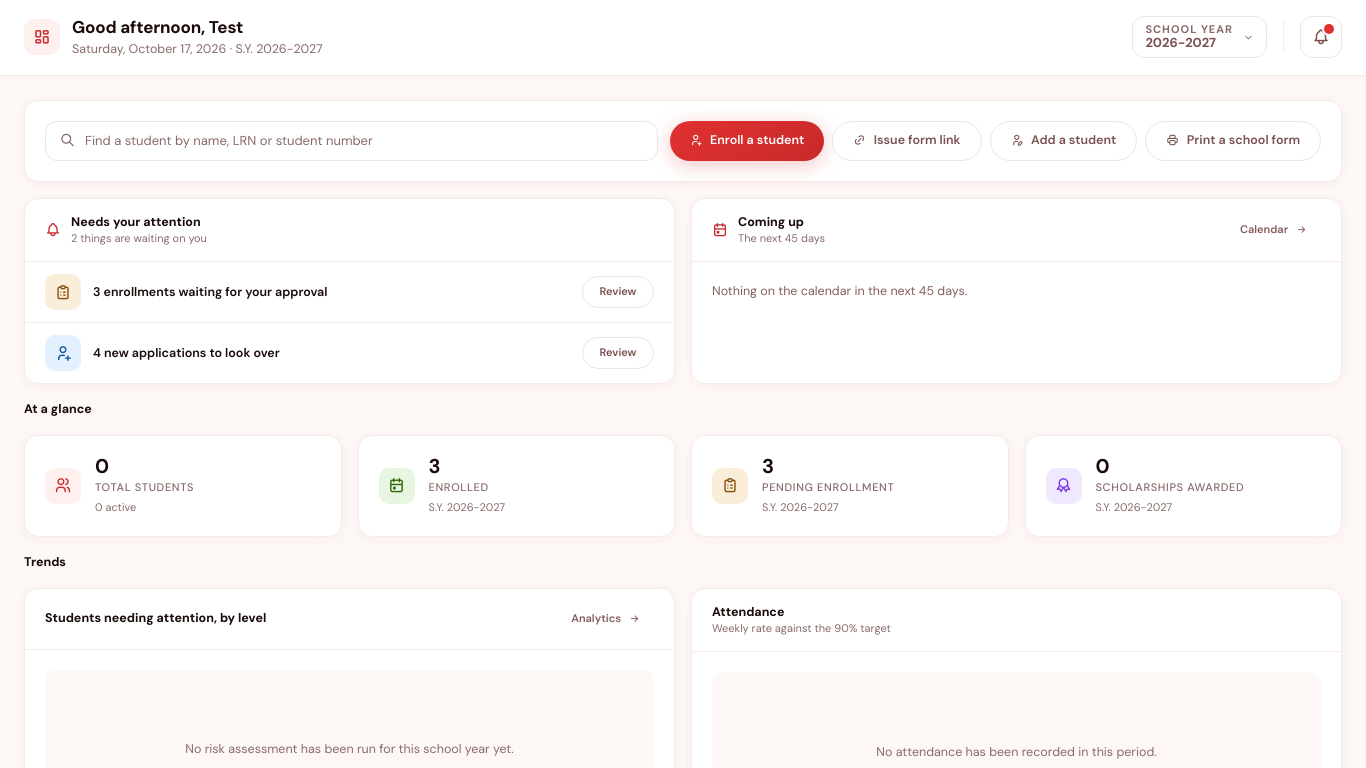
DashboardPage — notifications by role › tells registrars about pending enrollments and new applications, not invoices
Click the button named "Notifications": (1321, 37) [1300,16,1342,58]
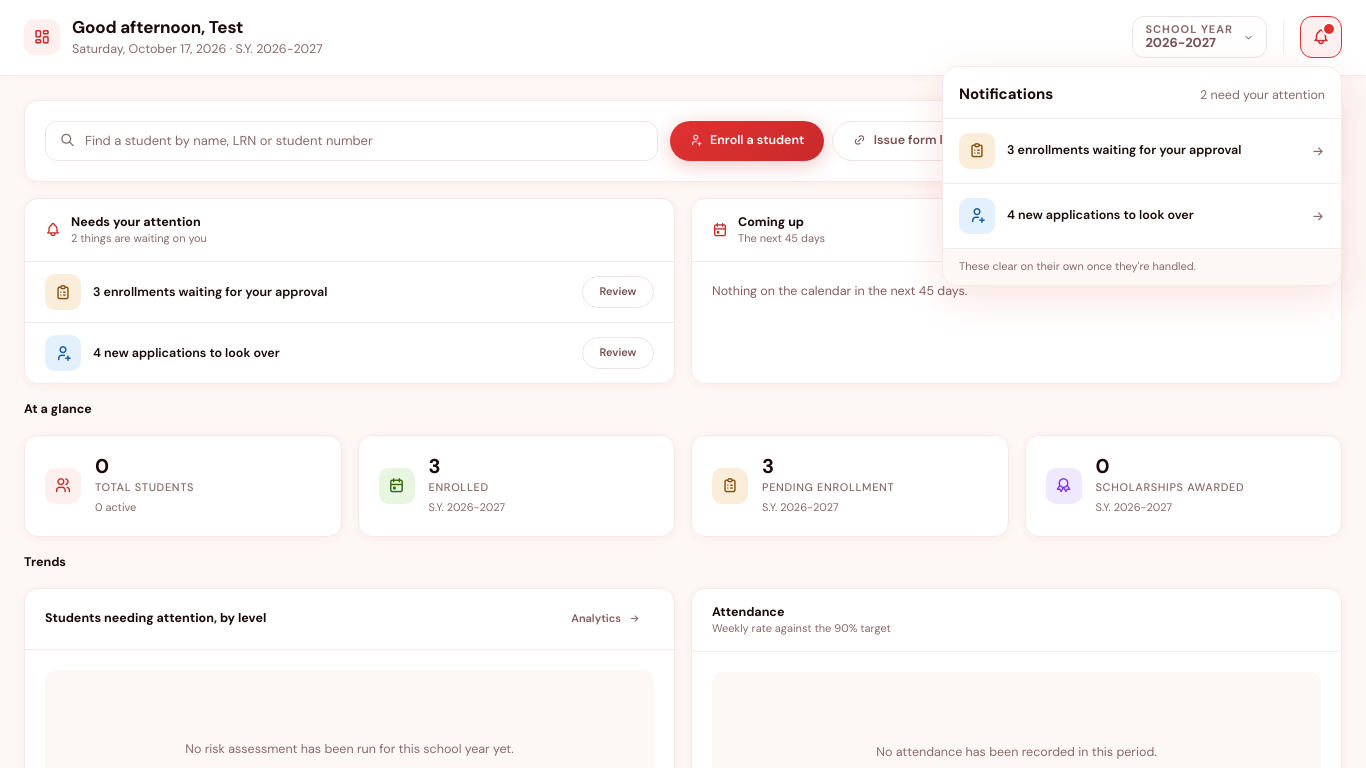
Check: the link "3 enrollments waiting for your approval" is shown, box [959,133,1325,169]
Check: the link "4 new applications to look over" is shown, box [959,198,1325,234]
